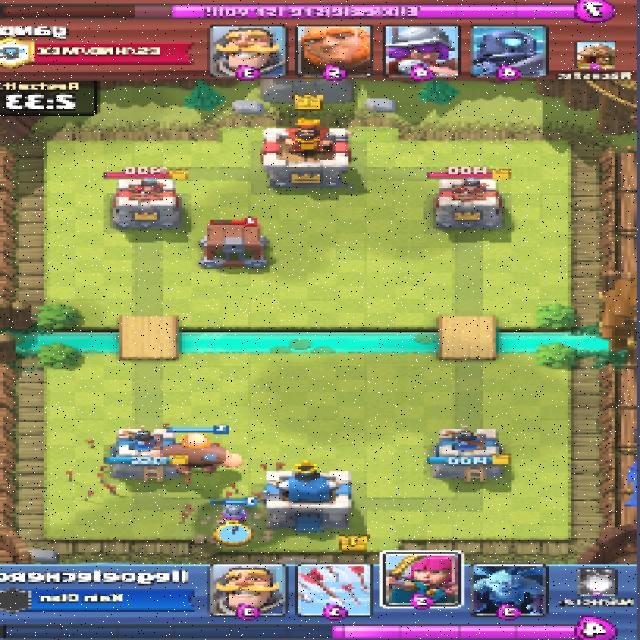Enemy-Arrow: (65, 426, 274, 516)
Player-Giant: (151, 433, 240, 479)
Player-GoblinCage: (199, 225, 267, 267)
Player-Musketeer: (218, 503, 255, 533)
